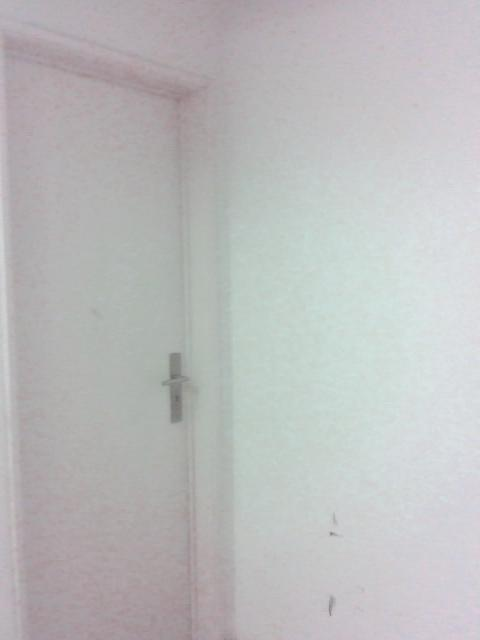closed_door: (2, 16, 232, 639)
